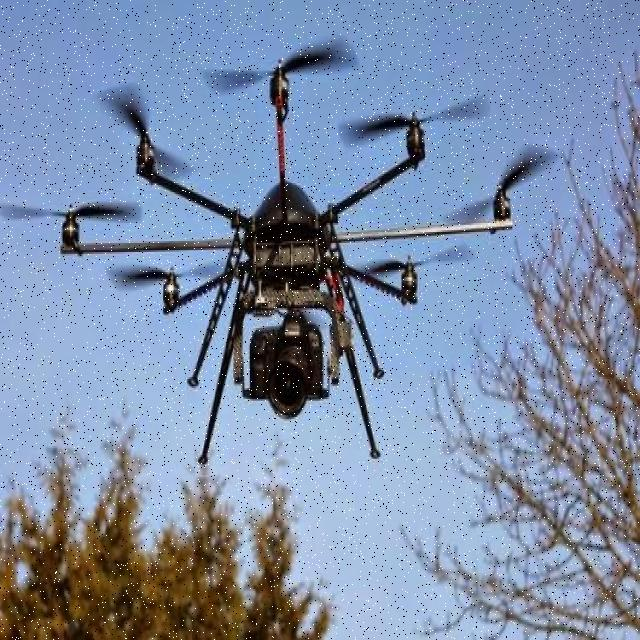UAV: (56, 44, 518, 472)
